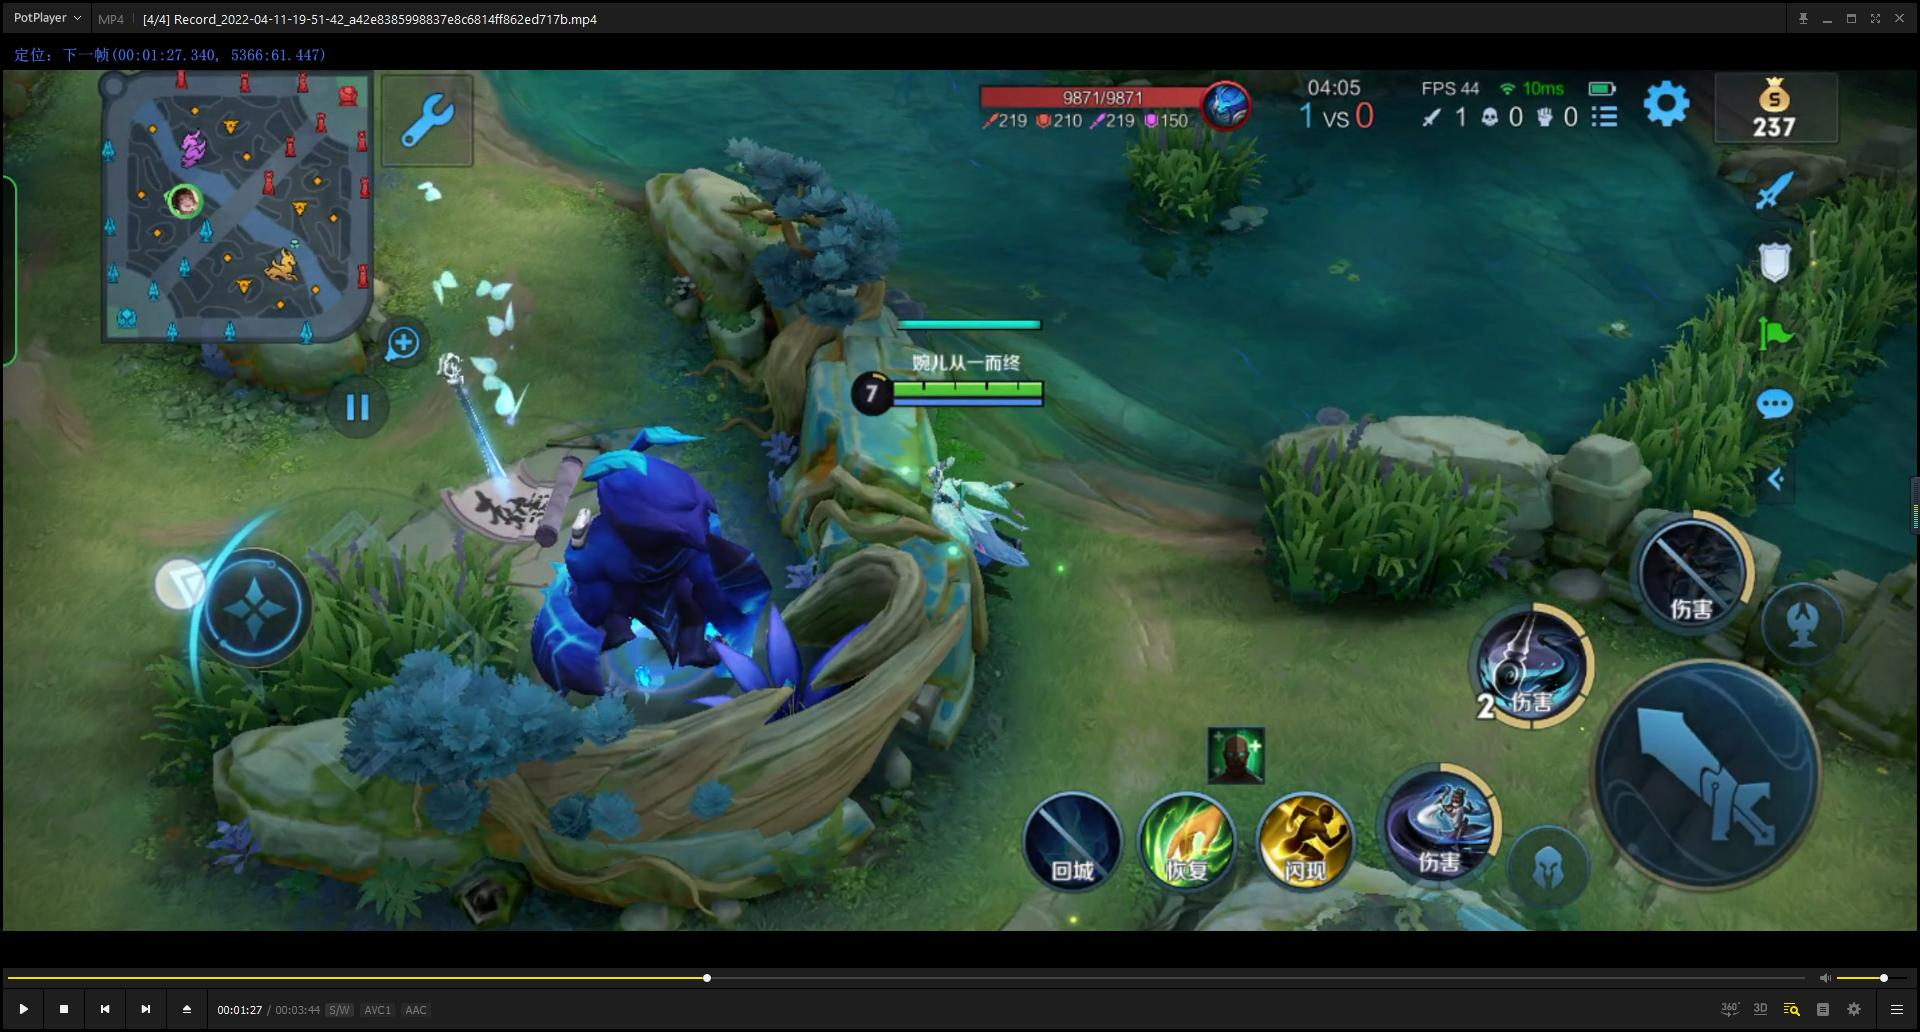Buff: (478, 399, 787, 728)
Hero: (900, 444, 1060, 581)
